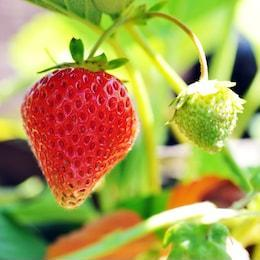Fresa: (18, 57, 142, 213)
